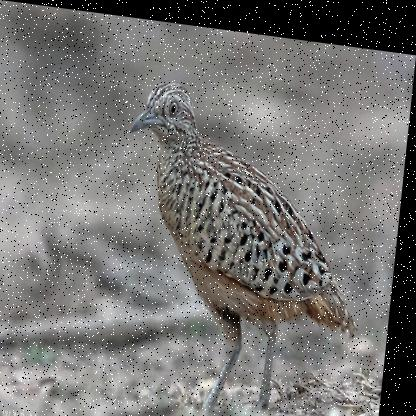Burung: (112, 73, 381, 412)
